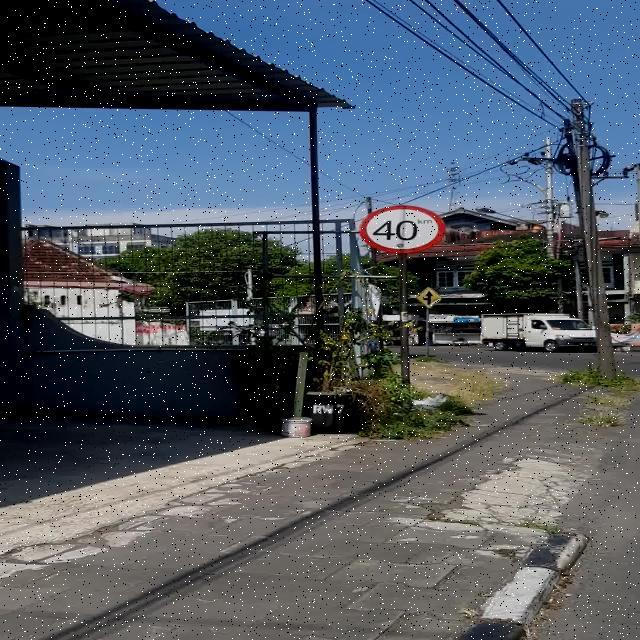Kecepatan Maks. 40 km: (360, 205, 446, 254)
